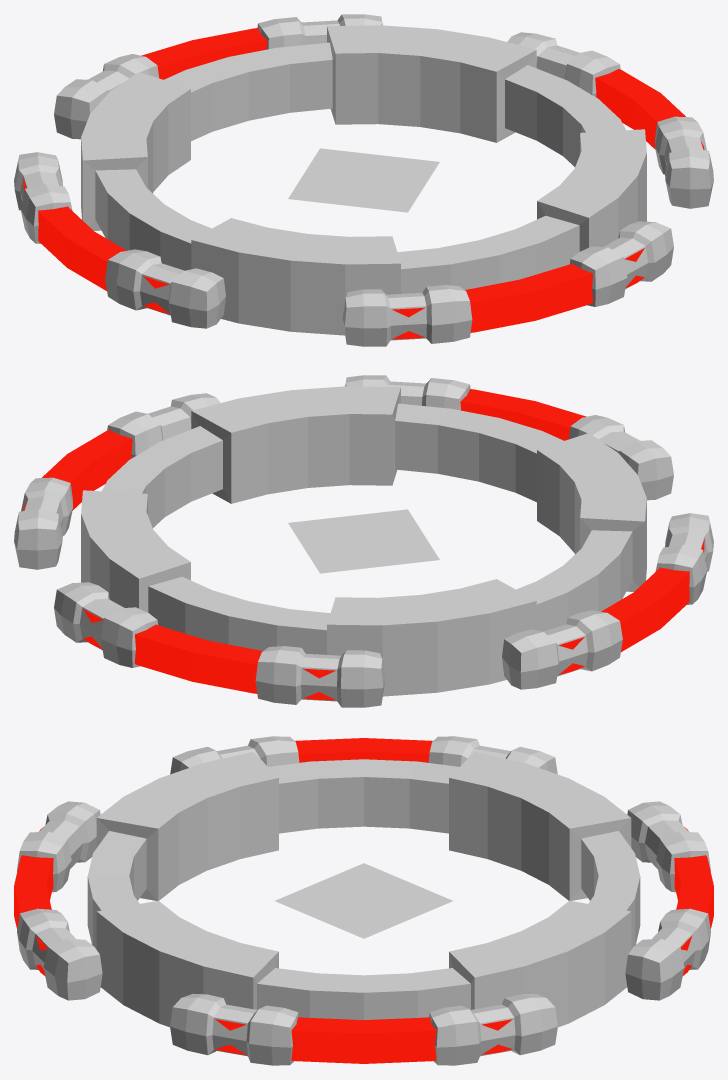
File: gyrocomp1.glb
3 renders of one model, top to bottom at view 1: azimuth 30°, elevation 25°; view 2: azimuth 150°, elevation 25°; view 3: azimuth 270°, elevation 25°, orthographic. The views are drawn at different scales.
Parts seen in each view (by area): view 1: Cylinder, Cylinder.001, Cylinder.002, Plane, Cylinder.003; view 2: Cylinder, Cylinder.001, Cylinder.002, Plane, Cylinder.003; view 3: Cylinder, Cylinder.001, Cylinder.002, Cylinder.003, Plane.
Part boxes in pixels (x1,y1,x2,y2): Cylinder: (81, 25, 646, 335); Cylinder.001: (14, 14, 713, 346); Cylinder.002: (23, 28, 644, 339); Plane: (288, 148, 439, 212); Cylinder.003: (595, 69, 704, 149); Cylinder: (81, 386, 646, 696); Cylinder.001: (14, 375, 713, 707); Cylinder.002: (83, 389, 704, 700); Plane: (288, 509, 439, 573); Cylinder.003: (23, 430, 132, 510); Cylinder: (87, 752, 640, 1027); Cylinder.001: (17, 736, 710, 1065); Cylinder.002: (14, 738, 713, 975); Cylinder.003: (215, 1017, 512, 1063); Plane: (275, 863, 452, 938).
Size of the model in its own units: 1.27 by 0.1451 by 1.27.
